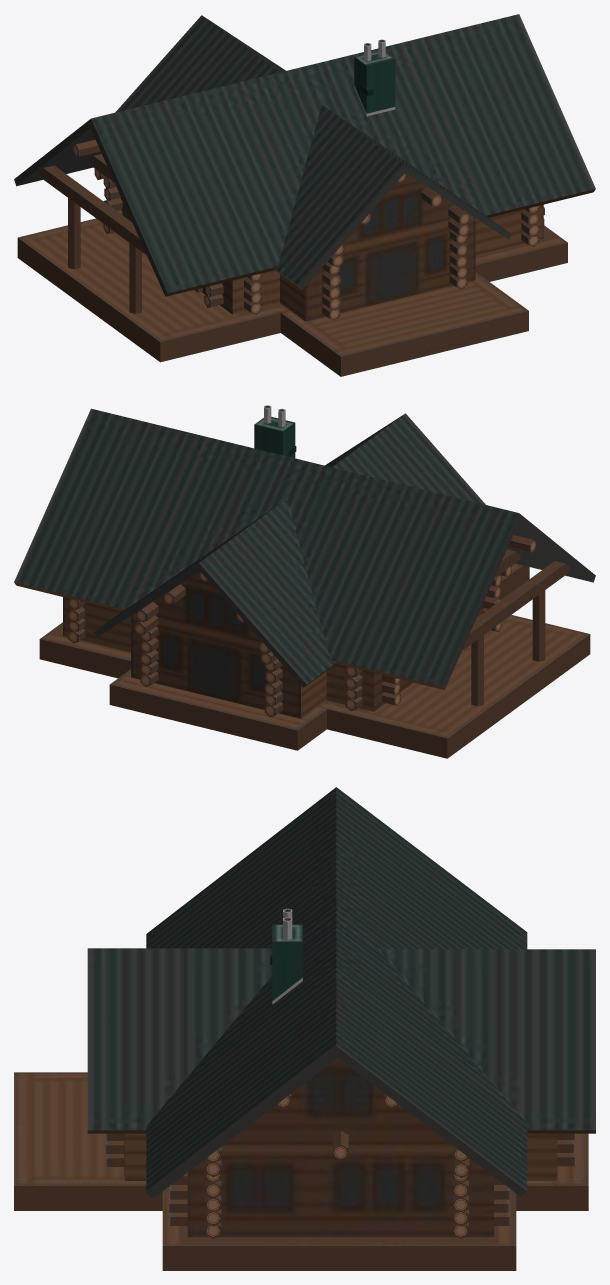
Rendered from log_cabin.glb.
3 views of the same model, one above another, from view 1: azimuth 30°, elevation 25°; view 2: azimuth 150°, elevation 25°; view 3: azimuth 270°, elevation 25° (orthographic). The views are drawn at different scales.
Visible parts, largest first — view 1: Cottage; view 2: Cottage; view 3: Cottage.
Part boxes in pixels (x1,y1,x2,y2): Cottage: (14,14,595,376); Cottage: (14,405,595,758); Cottage: (14,787,595,1270).
Size of the model in its own units: 1500 by 728 by 1423.
1 material, 1 textured.
